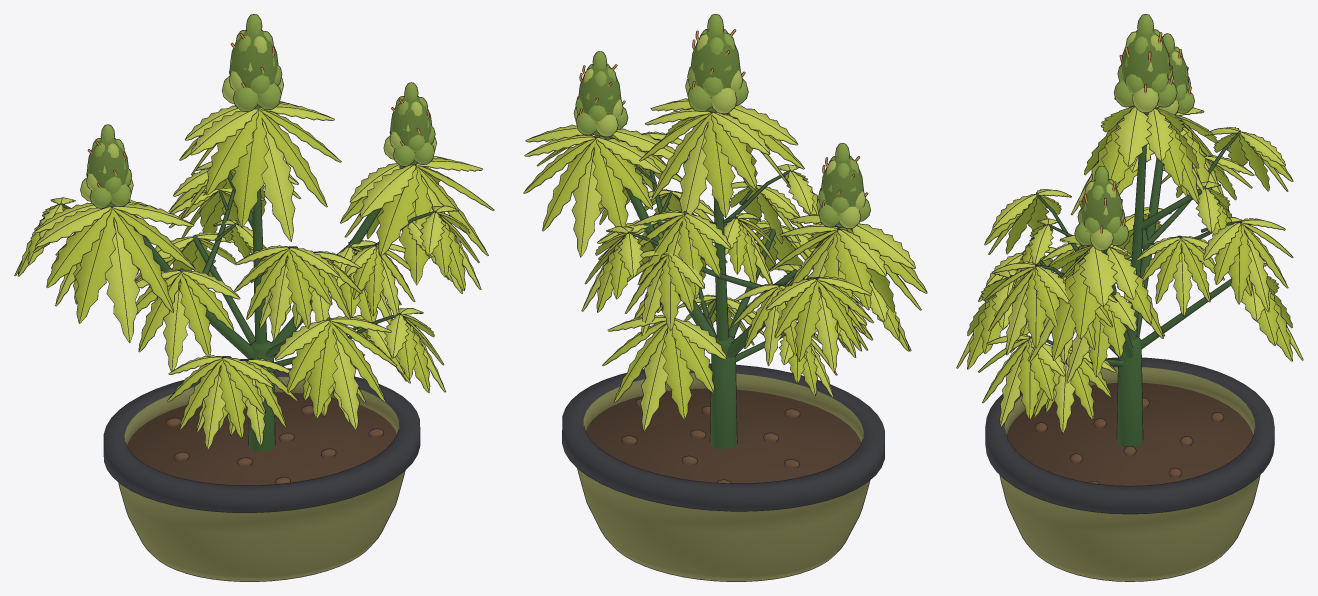
Rendered from cannabis_eventail_toon.glb.
3 renders of one model, left to right at view 1: azimuth 30°, elevation 25°; view 2: azimuth 150°, elevation 25°; view 3: azimuth 270°, elevation 25°, orthographic. The views are drawn at different scales.
Visible parts, largest first — view 1: cannabis_eventail_Geometry; view 2: cannabis_eventail_Geometry; view 3: cannabis_eventail_Geometry.
Boxes of the visible parts, <box> form: cannabis_eventail_Geometry: <box>14,14,494,581</box>; cannabis_eventail_Geometry: <box>523,14,927,581</box>; cannabis_eventail_Geometry: <box>956,14,1303,581</box>.
Size of the model in its own units: 0.7683 by 0.9119 by 0.555.
